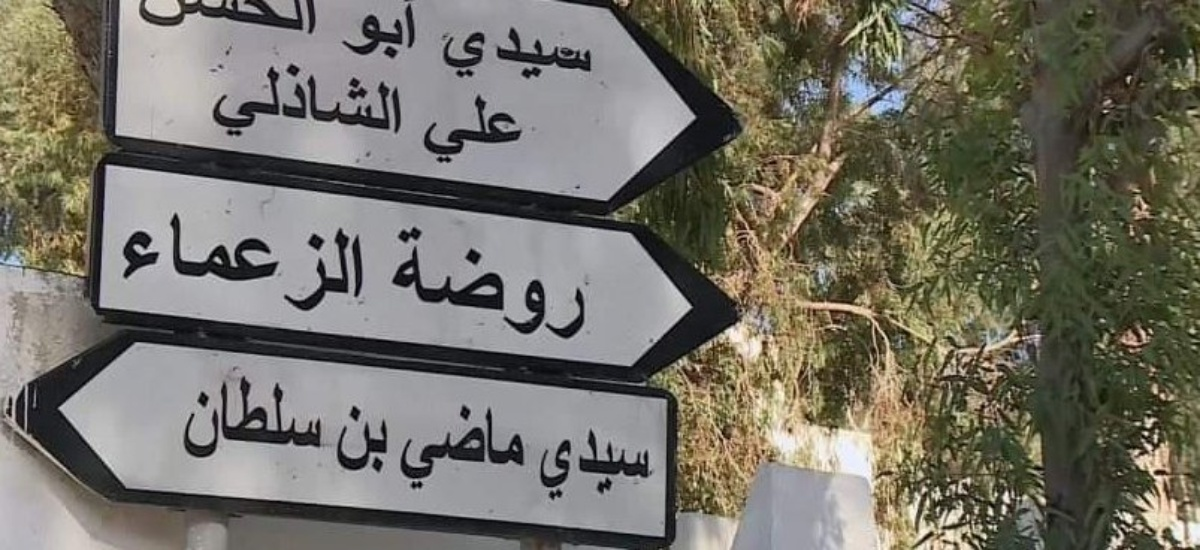text: (401, 220, 416, 347), (417, 220, 432, 347), (433, 220, 448, 347), (449, 220, 464, 347), (465, 220, 480, 347), (481, 220, 496, 347), (497, 220, 512, 347), (513, 220, 528, 347), (529, 220, 544, 347), (545, 220, 560, 347), (561, 220, 576, 347), (577, 220, 592, 347), (129, 202, 144, 316), (145, 202, 160, 316), (161, 202, 176, 316), (177, 202, 192, 316), (193, 202, 208, 316), (209, 202, 224, 316), (225, 202, 240, 316), (241, 202, 256, 316), (257, 202, 272, 316), (273, 202, 288, 316), (289, 202, 304, 316), (305, 202, 320, 316), (321, 202, 336, 316), (337, 202, 352, 316), (353, 202, 367, 316), (225, 51, 240, 148), (241, 51, 256, 148), (257, 51, 272, 148), (273, 51, 288, 148), (289, 51, 304, 148), (305, 51, 320, 148), (321, 51, 336, 148), (337, 51, 352, 148), (353, 51, 368, 148), (369, 51, 384, 148), (385, 51, 400, 148), (193, 370, 208, 465), (209, 370, 224, 465), (225, 370, 240, 465), (241, 370, 256, 465), (257, 370, 272, 465), (273, 370, 288, 465), (289, 370, 304, 465), (305, 370, 320, 465), (433, 398, 448, 491), (449, 398, 464, 491), (465, 398, 480, 491), (481, 398, 496, 491), (497, 398, 512, 491), (545, 416, 560, 504), (561, 416, 576, 504), (577, 416, 592, 504), (593, 416, 608, 504), (609, 416, 624, 504), (625, 416, 640, 504), (513, 398, 527, 491), (433, 89, 448, 168), (449, 89, 464, 168), (465, 89, 480, 168), (481, 89, 496, 168), (497, 89, 512, 168), (420, 398, 432, 491), (353, 404, 368, 477), (369, 404, 384, 477), (449, 15, 464, 87), (465, 15, 480, 87), (481, 15, 496, 87), (497, 15, 512, 87), (513, 15, 528, 87), (529, 15, 544, 87), (545, 15, 560, 87), (561, 15, 576, 87), (577, 15, 592, 87), (401, 1, 417, 65), (338, 404, 352, 477), (641, 416, 652, 504), (369, 1, 384, 65), (385, 1, 400, 65), (321, 370, 331, 465), (513, 89, 525, 168), (385, 404, 395, 477), (122, 202, 128, 316), (145, 1, 160, 44), (161, 1, 176, 44), (177, 1, 192, 44), (193, 1, 208, 44), (209, 1, 224, 44), (225, 1, 240, 44), (241, 1, 256, 44), (257, 1, 272, 44), (273, 1, 288, 44), (289, 1, 304, 44), (305, 1, 320, 44), (395, 220, 400, 347), (593, 220, 598, 347), (401, 51, 407, 148), (134, 1, 144, 44), (220, 51, 224, 148), (362, 1, 368, 65), (428, 89, 432, 168), (593, 15, 597, 87), (447, 15, 448, 87), (321, 1, 322, 44)
